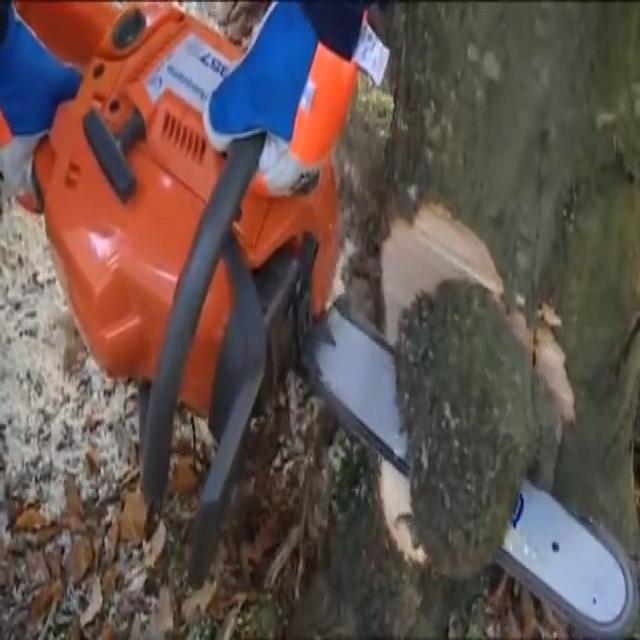Chainsaw: (30, 5, 638, 640)
